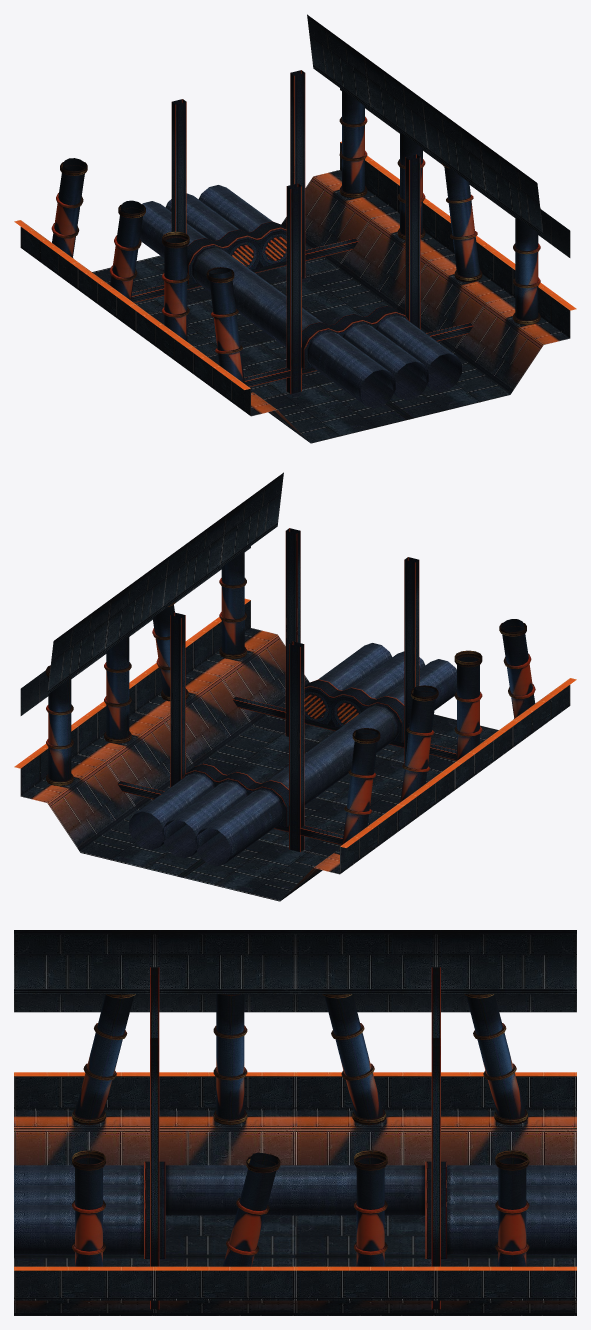
3 views of the same model, one above another, from view 1: azimuth 30°, elevation 25°; view 2: azimuth 150°, elevation 25°; view 3: azimuth 270°, elevation 25° (orthographic). The views are drawn at different scales.
Parts seen in each view (by area): view 1: bg_a_wall00, bg_a_wall03, tube_00, bg_a_wall01; view 2: bg_a_wall00, bg_a_wall03, tube_00, bg_a_wall01; view 3: bg_a_wall00, bg_a_wall01, bg_a_wall03, tube_00.
Boxes of the visible parts, <box> form: bg_a_wall00: <box>14,141,576,443</box>; bg_a_wall03: <box>51,70,540,394</box>; tube_00: <box>140,185,461,408</box>; bg_a_wall01: <box>307,14,570,257</box>; bg_a_wall00: <box>14,598,576,901</box>; bg_a_wall03: <box>46,528,535,852</box>; tube_00: <box>129,643,456,866</box>; bg_a_wall01: <box>20,472,283,715</box>; bg_a_wall00: <box>14,1072,576,1315</box>; bg_a_wall01: <box>14,930,576,1012</box>; bg_a_wall03: <box>72,967,529,1309</box>; tube_00: <box>14,1165,576,1254</box>.
Size of the model in its own units: 5000 by 2950 by 6000.
3 materials, 3 textured.
